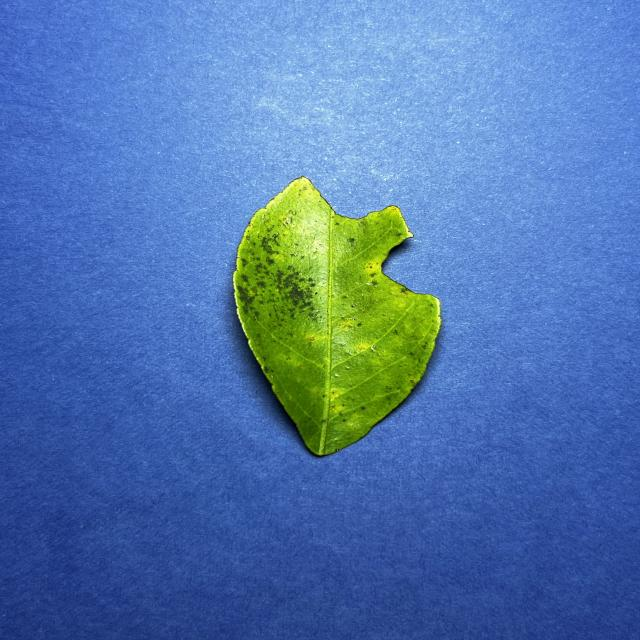sooty_mold: (233, 177, 440, 455)
